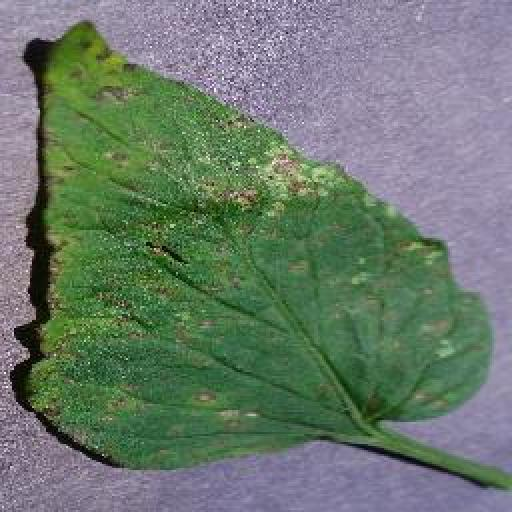Septoria: (26, 19, 493, 472)
